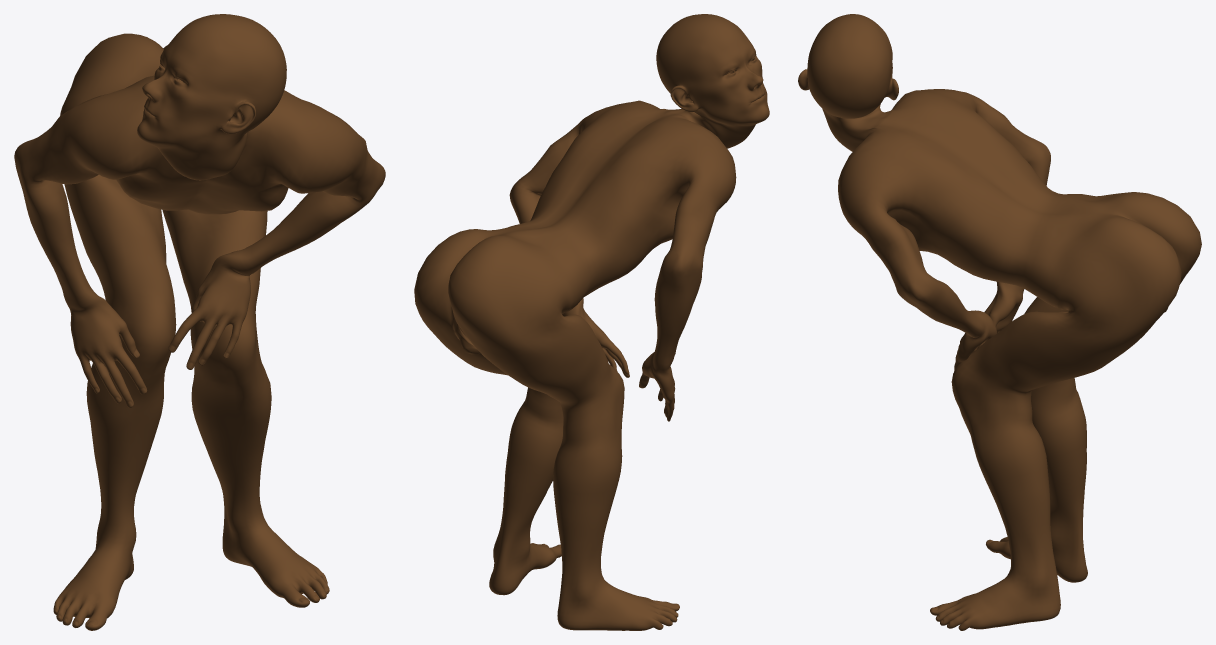
Rendered from RICKY.obj.
The picture shows the model from 3 angles, left to right: view 1: azimuth 30°, elevation 25°; view 2: azimuth 150°, elevation 25°; view 3: azimuth 270°, elevation 25°; orthographic projection. The views are drawn at different scales.
Parts seen in each view (by area): view 1: HG_Body.007; view 2: HG_Body.007; view 3: HG_Body.007.
Boxes of the visible parts, <box> form: HG_Body.007: <box>14,14,385,630</box>; HG_Body.007: <box>414,14,769,630</box>; HG_Body.007: <box>798,14,1201,630</box>.
Bounding box in the file's own units: 0.5351 × 1.14 × 0.7613.
